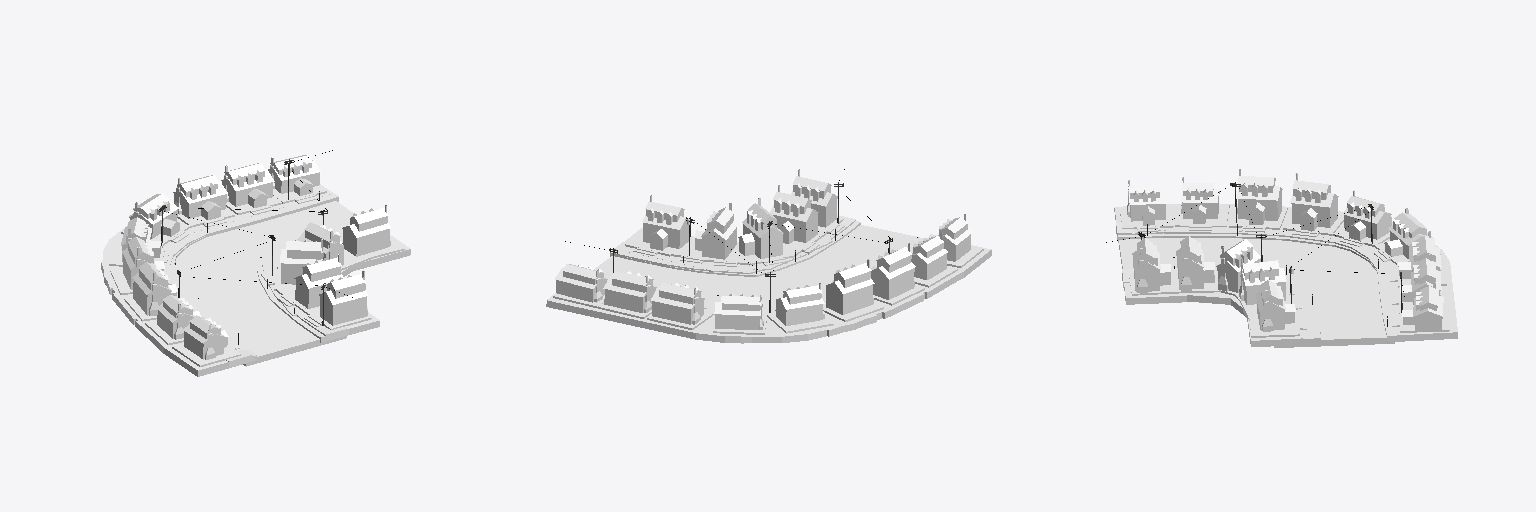
File: oldTown.obj
3 views of the same model, side by side, from view 1: azimuth 30°, elevation 25°; view 2: azimuth 150°, elevation 25°; view 3: azimuth 270°, elevation 25° (orthographic).
Parts seen in each view (by area): view 1: mesh01, default; view 2: mesh01, default; view 3: mesh01, default.
Part boxes in pixels (left/top/right/bottom): mesh01: left=109, top=155, right=404, bottom=366; default: left=101, top=150, right=410, bottom=376; mesh01: left=553, top=169, right=983, bottom=334; default: left=546, top=169, right=991, bottom=343; mesh01: left=1120, top=169, right=1449, bottom=337; default: left=1106, top=182, right=1457, bottom=347.
Size of the model in its own units: 18691 by 3624 by 20006.